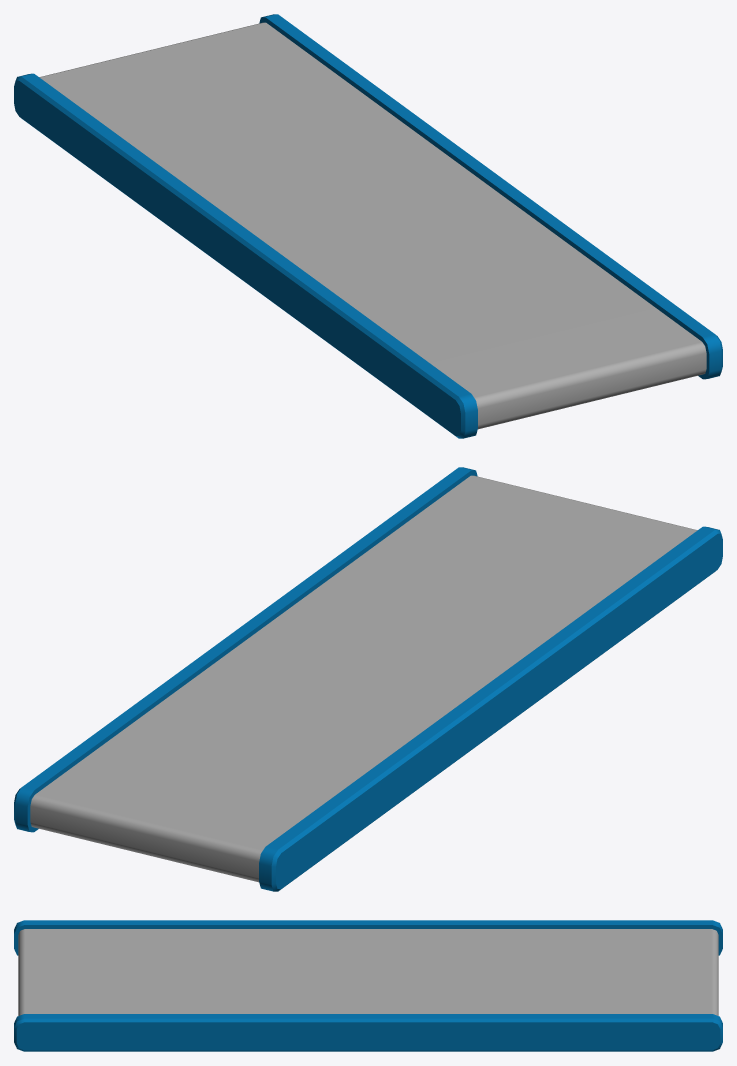
Rendered from SM_Booster.fbx.
3 views of the same model, one above another, from view 1: azimuth 30°, elevation 25°; view 2: azimuth 150°, elevation 25°; view 3: azimuth 270°, elevation 25° (orthographic). The views are drawn at different scales.
Parts seen in each view (by area): view 1: SM_Booster; view 2: SM_Booster; view 3: SM_Booster.
Boxes of the visible parts, x1=… form: SM_Booster: x1=14, y1=14, x2=722, y2=438; SM_Booster: x1=14, y1=467, x2=722, y2=891; SM_Booster: x1=14, y1=920, x2=722, y2=1051.
Size of the model in its own units: 170 by 26 by 506.
